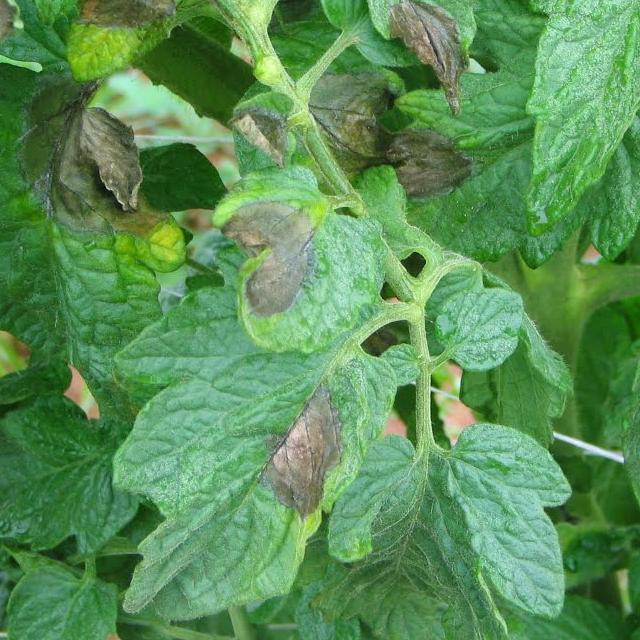Tomato leaf late blight: (108, 281, 402, 630), (0, 38, 170, 402), (212, 180, 389, 353), (58, 0, 183, 97), (350, 0, 470, 100)
